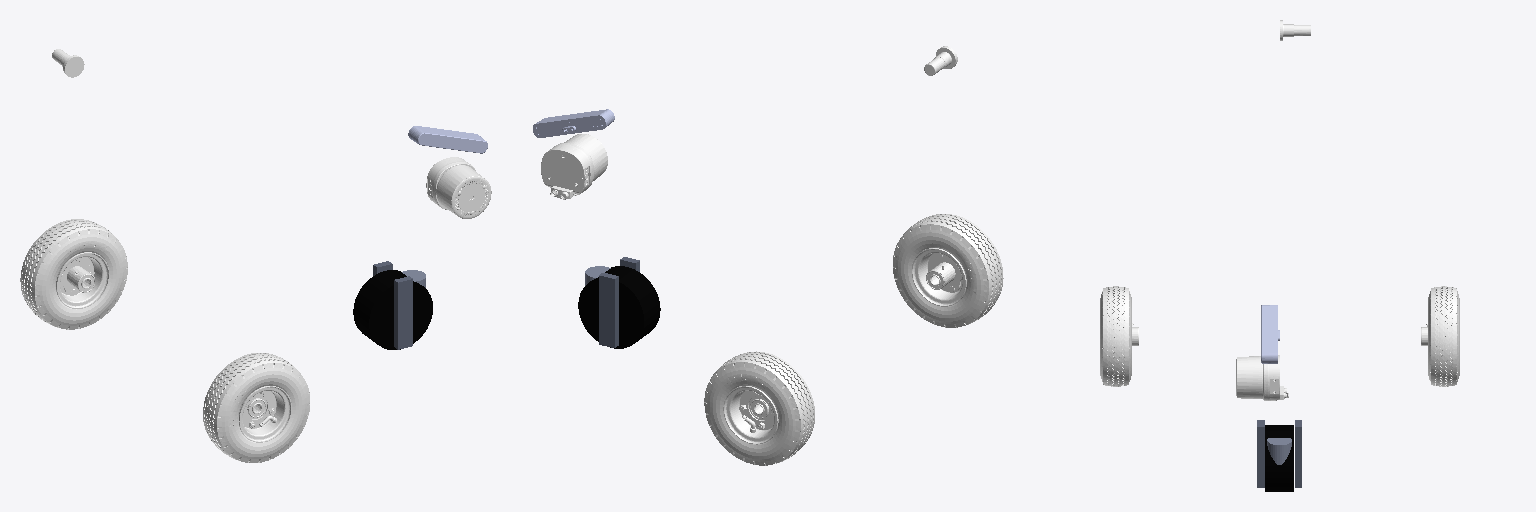
The robot description file, URDF, robot "Shogi":
<?xml version="1.0" encoding="utf-8"?>
<!--
  Shogi robot description — single, sim-complete source of truth.

  Kinematics + visuals feed robot_state_publisher/TF on the real robot exactly
  as before. The added <inertial>, <collision>, and <gazebo> blocks (drive
  plugin, ZED rgbd sensor, wheel/caster friction) plus the articulated caster
  make this URDF spawnable into Gazebo Fortress by autonav_sim's simulator —
  they are INERT outside Gazebo (robot_state_publisher/RViz/Nav2 ignore them).
  The real robot already runs joint_state_publisher, which feeds the non-fixed
  caster joints a neutral 0. Inertial/collision/friction/sensor/plugin values
  are ported verbatim from autonav_sim's generated world (the prior baked SDF).
-->
<robot name="Shogi">
  <link name="base_link">
    <inertial>
      <origin xyz="0.146589 0.000013 0.151663" rpy="0 0 0" />
      <mass value="48.2703" />
      <inertia ixx="2.20" iyy="4.30" izz="4.80" ixy="0" ixz="0" iyz="0" />
    </inertial>
    <collision name="body_collision">
      <origin xyz="0.225 0 0.18" rpy="0 0 0" />
      <geometry>
        <box size="1.09 0.82 0.26" />
      </geometry>
    </collision>
    <visual>
      <origin xyz="-1.712700 -0.778935 -0.344190" rpy="0 0 1.570796" />
      <geometry>
        <mesh filename="package://bringup/description/meshes/base_link.STL" />
      </geometry>
      <material name="base_material">
        <color rgba="0.79216 0.81961 0.93333 1" />
      </material>
    </visual>
  </link>

  <link name="base_footprint" />
  <joint name="base_joint" type="fixed">
    <origin xyz="0 0 -0.113030" rpy="0 0 0" />
    <parent link="base_link" />
    <child link="base_footprint" />
  </joint>

  <link name="Caster_link">
    <inertial>
      <mass value="0.45" />
      <inertia ixx="0.0009" iyy="0.0009" izz="0.0005" ixy="0" ixz="0" iyz="0" />
    </inertial>
    <!-- Caster fork/mount as PRIMITIVES. The Caster_link.STL mesh combines the
         fork AND wheel as one rigid piece, which renders wrong on an articulated
         caster (the wheel can't roll independently, leaving it detached/floating);
         these primitives match the prior baked-SDF caster and articulate cleanly. -->
    <visual name="caster_mount">
      <origin xyz="0 0 0.025" rpy="0 0 0" />
      <geometry><cylinder radius="0.028" length="0.055" /></geometry>
      <material name="caster_mount_mat"><color rgba="0.55 0.58 0.66 1.0" /></material>
    </visual>
    <visual name="caster_swivel_pin">
      <origin xyz="0 0 0" rpy="0 0 0" />
      <geometry><cylinder radius="0.018" length="0.05" /></geometry>
      <material name="caster_pin_mat"><color rgba="0.32 0.34 0.40 1.0" /></material>
    </visual>
    <visual name="caster_fork_left">
      <origin xyz="-0.045 0.042 -0.003" rpy="0 0 0" />
      <geometry><box size="0.036 0.016 0.15" /></geometry>
      <material name="caster_fork_l_mat"><color rgba="0.42 0.45 0.52 1.0" /></material>
    </visual>
    <visual name="caster_fork_right">
      <origin xyz="-0.045 -0.042 -0.003" rpy="0 0 0" />
      <geometry><box size="0.036 0.016 0.15" /></geometry>
      <material name="caster_fork_r_mat"><color rgba="0.42 0.45 0.52 1.0" /></material>
    </visual>
  </link>
  <joint name="Caster" type="continuous">
    <origin xyz="0.577000 -0.000795 -0.040880" rpy="0 -0.000004 0.000007" />
    <parent link="base_link" />
    <child link="Caster_link" />
    <axis xyz="0 0 1" />
    <dynamics damping="0.004" friction="0.0005" />
  </joint>

  <link name="caster_wheel_link">
    <inertial>
      <mass value="0.35" />
      <inertia ixx="0.0007" iyy="0.0007" izz="0.0004" ixy="0" ixz="0" iyz="0" />
    </inertial>
    <collision name="caster_wheel_collision">
      <origin xyz="0 0 0" rpy="1.570796 0 0" />
      <geometry>
        <cylinder radius="0.075" length="0.064" />
      </geometry>
    </collision>
    <visual name="caster_wheel_visual">
      <origin xyz="0 0 0" rpy="1.570796 0 0" />
      <geometry><cylinder radius="0.075" length="0.064" /></geometry>
      <material name="caster_wheel_mat"><color rgba="0.04 0.04 0.04 1.0" /></material>
    </visual>
  </link>
  <joint name="Caster_Wheel_Roll" type="continuous">
    <origin xyz="-0.045000 0 -0.013580" rpy="0 0 0" />
    <parent link="Caster_link" />
    <child link="caster_wheel_link" />
    <axis xyz="0 1 0" />
    <dynamics damping="0.003" friction="0.0001" />
  </joint>

  <link name="lidar_footprint">
    <visual>
      <origin xyz="0 0 0" rpy="0 0 0" />
      <geometry>
        <mesh filename="package://bringup/description/meshes/Lidar_Link.STL" />
      </geometry>
      <material name="lidar_material">
        <color rgba="1 1 1 1" />
      </material>
    </visual>
  </link>
  <joint name="Lidar" type="fixed">
    <origin xyz="0.659800 0.000105 0.205680" rpy="-3.141593 -0.000004 0" />
    <parent link="base_link" />
    <child link="lidar_footprint" />
  </joint>

  <link name="zed_camera_link">
    <visual>
      <origin xyz="0 0 0" rpy="0 0 0" />
      <geometry>
        <mesh filename="package://bringup/description/meshes/Camera_Link.STL" />
      </geometry>
      <material name="camera_material">
        <color rgba="0.792156862745098 0.819607843137255 0.933333333333333 1" />
      </material>
    </visual>
  </link>
  <joint name="Camera" type="fixed">
    <origin xyz="0.657600 0.009075 0.307230" rpy="0 0.349070 0" />
    <parent link="base_link" />
    <child link="zed_camera_link" />
  </joint>

  <link name="gps_footprint">
    <visual>
      <origin xyz="0 0 0" rpy="0 0 0" />
      <geometry>
        <mesh filename="package://bringup/description/meshes/GPS_Link.STL" />
      </geometry>
      <material name="gps_material">
        <color rgba="1 1 1 1" />
      </material>
    </visual>
  </link>
  <joint name="GPS" type="fixed">
    <origin xyz="-0.212200 -0.000105 0.661610" rpy="0 0.000004 0" />
    <parent link="base_link" />
    <child link="gps_footprint" />
  </joint>

  <link name="right_wheel_link">
    <inertial>
      <mass value="2.0" />
      <inertia ixx="0.025" iyy="0.025" izz="0.025" ixy="0" ixz="0" iyz="0" />
    </inertial>
    <collision name="right_drive_wheel_collision">
      <origin xyz="0 0 0" rpy="0 1.570796 0" />
      <geometry>
        <cylinder radius="0.12946" length="0.1" />
      </geometry>
    </collision>
    <visual>
      <origin xyz="0.044545 0 0" rpy="0 0 0" />
      <geometry>
        <mesh filename="package://bringup/description/meshes/Right_Wheel_Link.STL" />
      </geometry>
      <material name="right_wheel_material">
        <color rgba="1 1 1 1" />
      </material>
    </visual>
  </link>
  <joint name="Right_Wheel" type="continuous">
    <origin xyz="0 -0.361630 0" rpy="2.749800 0 -1.570804" />
    <parent link="base_link" />
    <child link="right_wheel_link" />
    <!-- Axis reversed vs the original (which shared "1 0 0" with Left_Wheel).
         Left/Right origins have OPPOSITE-signed yaw (+1.570796 / -1.570804), so a
         shared +X axis yields ANTIPARALLEL world spin axes (left +Y, right -Y).
         The Gazebo DiffDrive plugin assumes parallel wheel axes, so with the
         original axes "forward" spins the robot in place and "rotate" drives it
         straight. Reversing to -1 0 0 makes both spin axes +Y (parallel) so the
         diff-drive works. INERT on the real robot: the wheel joints are fed q=0
         by joint_state_publisher (no encoder->joint_state source in the stack),
         and at q=0 the TF equals the joint origin regardless of axis sign. -->
    <axis xyz="-1 0 0" />
  </joint>

  <link name="left_wheel_link">
    <inertial>
      <mass value="2.0" />
      <inertia ixx="0.025" iyy="0.025" izz="0.025" ixy="0" ixz="0" iyz="0" />
    </inertial>
    <collision name="left_drive_wheel_collision">
      <origin xyz="0 0 0" rpy="0 1.570796 0" />
      <geometry>
        <cylinder radius="0.12946" length="0.1" />
      </geometry>
    </collision>
    <visual>
      <origin xyz="-0.767804 0 0" rpy="0 0 0" />
      <geometry>
        <mesh filename="package://bringup/description/meshes/Left_Wheel_Link.STL" />
      </geometry>
      <material name="left_wheel_material">
        <color rgba="1 1 1 1" />
      </material>
    </visual>
  </link>
  <joint name="Left_Wheel" type="continuous">
    <origin xyz="0 0.361630 0" rpy="1.739800 0 1.570796" />
    <parent link="base_link" />
    <child link="left_wheel_link" />
    <axis xyz="1 0 0" />
  </joint>

  <link name="nav_center" />
  <joint name="nav_center_joint" type="fixed">
    <origin xyz="0.225 0 0" rpy="0 0 0" />
    <parent link="base_link" />
    <child link="nav_center" />
  </joint>

  <!-- ===== Gazebo (Ignition Fortress) sim extensions — INERT on the real robot ===== -->
  <gazebo reference="base_link">
    <mu1>0.9</mu1>
    <mu2>0.9</mu2>
    <sensor name="zed2i_rgbd" type="rgbd_camera">
      <pose>0.657600 0.009075 0.307230 0 0.349070 0</pose>
      <always_on>1</always_on>
      <update_rate>15</update_rate>
      <visualize>false</visualize>
      <topic>/igvc_sim/zed</topic>
      <camera>
        <horizontal_fov>1.453833</horizontal_fov>
        <image>
          <width>960</width>
          <height>540</height>
          <format>R8G8B8</format>
        </image>
        <clip>
          <near>0.10</near>
          <far>15.0</far>
        </clip>
      </camera>
    </sensor>
  </gazebo>

  <gazebo reference="left_wheel_link">
    <mu1>1.2</mu1>
    <mu2>1.2</mu2>
  </gazebo>
  <gazebo reference="right_wheel_link">
    <mu1>1.2</mu1>
    <mu2>1.2</mu2>
  </gazebo>
  <gazebo reference="caster_wheel_link">
    <mu1>0.75</mu1>
    <mu2>0.02</mu2>
  </gazebo>

  <gazebo>
    <plugin filename="ignition-gazebo-diff-drive-system" name="ignition::gazebo::systems::DiffDrive">
      <left_joint>Left_Wheel</left_joint>
      <right_joint>Right_Wheel</right_joint>
      <wheel_separation>0.72326</wheel_separation>
      <wheel_radius>0.12946</wheel_radius>
      <topic>/cmd_vel_gazebo</topic>
      <frame_id>odom</frame_id>
      <child_frame_id>base_link</child_frame_id>
      <odom_publish_frequency>50</odom_publish_frequency>
      <max_linear_acceleration>1.0</max_linear_acceleration>
      <max_angular_acceleration>2.0</max_angular_acceleration>
    </plugin>
  </gazebo>
</robot>

--- Render facts (derived) ---
3 views of the same robot in one strip: view 1: azimuth 30°, elevation 25°; view 2: azimuth 150°, elevation 25°; view 3: azimuth 270°, elevation 25° (orthographic).
Model Shogi with 10 links and 9 joints (4 continuous, 5 fixed), rooted at base_link, posed every joint at zero.
Visible links, largest first — view 1: left_wheel_link, right_wheel_link, caster_wheel_link, lidar_footprint, Caster_link, zed_camera_link, gps_footprint; view 2: left_wheel_link, right_wheel_link, caster_wheel_link, lidar_footprint, Caster_link, zed_camera_link, gps_footprint; view 3: left_wheel_link, right_wheel_link, lidar_footprint, Caster_link, caster_wheel_link, zed_camera_link.
Link boxes in pixels (left/top/right/bottom): left_wheel_link: left=20, top=219, right=127, bottom=329; right_wheel_link: left=203, top=353, right=309, bottom=462; caster_wheel_link: left=353, top=270, right=432, bottom=349; lidar_footprint: left=426, top=157, right=491, bottom=218; Caster_link: left=373, top=261, right=425, bottom=349; zed_camera_link: left=408, top=126, right=487, bottom=153; gps_footprint: left=52, top=49, right=84, bottom=77; left_wheel_link: left=704, top=351, right=814, bottom=465; right_wheel_link: left=893, top=214, right=1003, bottom=327; caster_wheel_link: left=578, top=266, right=660, bottom=348; lidar_footprint: left=541, top=134, right=607, bottom=199; Caster_link: left=585, top=257, right=639, bottom=347; zed_camera_link: left=533, top=109, right=614, bottom=137; gps_footprint: left=924, top=46, right=957, bottom=75; left_wheel_link: left=1421, top=286, right=1459, bottom=386; right_wheel_link: left=1100, top=286, right=1138, bottom=386; lidar_footprint: left=1236, top=355, right=1288, bottom=400; Caster_link: left=1257, top=420, right=1301, bottom=487; caster_wheel_link: left=1265, top=425, right=1293, bottom=491; zed_camera_link: left=1261, top=305, right=1279, bottom=363.
Size in the robot's own frame: 0.9669 by 0.8124 by 0.814 metres.
5 mesh visuals loaded from 6 distinct referenced files (5 binary STL); not drawn: 1 (reference not matched to a file when rendering).
